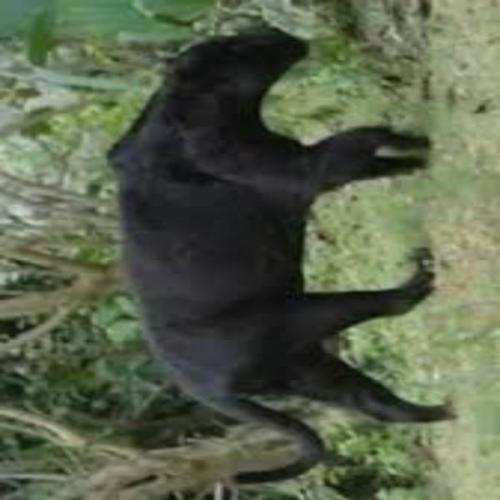panther-endangered: (105, 29, 454, 489)
